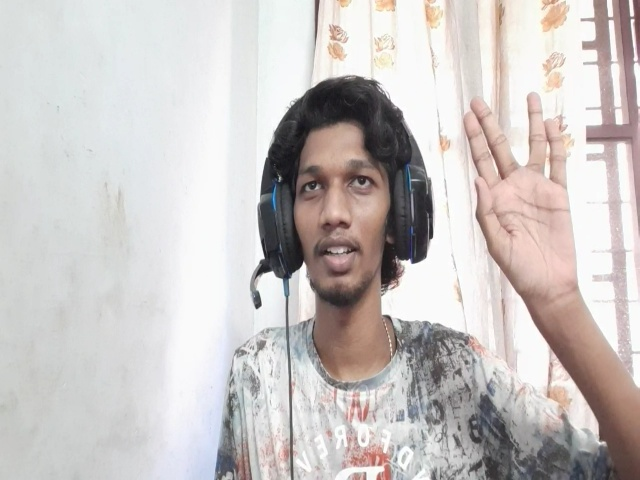LiveLong: (463, 92, 582, 306)
